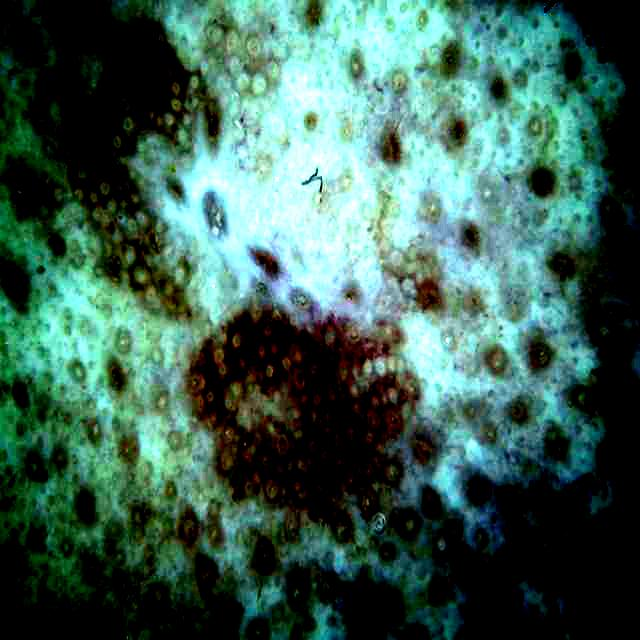AKIEC: (199, 316, 358, 513)
